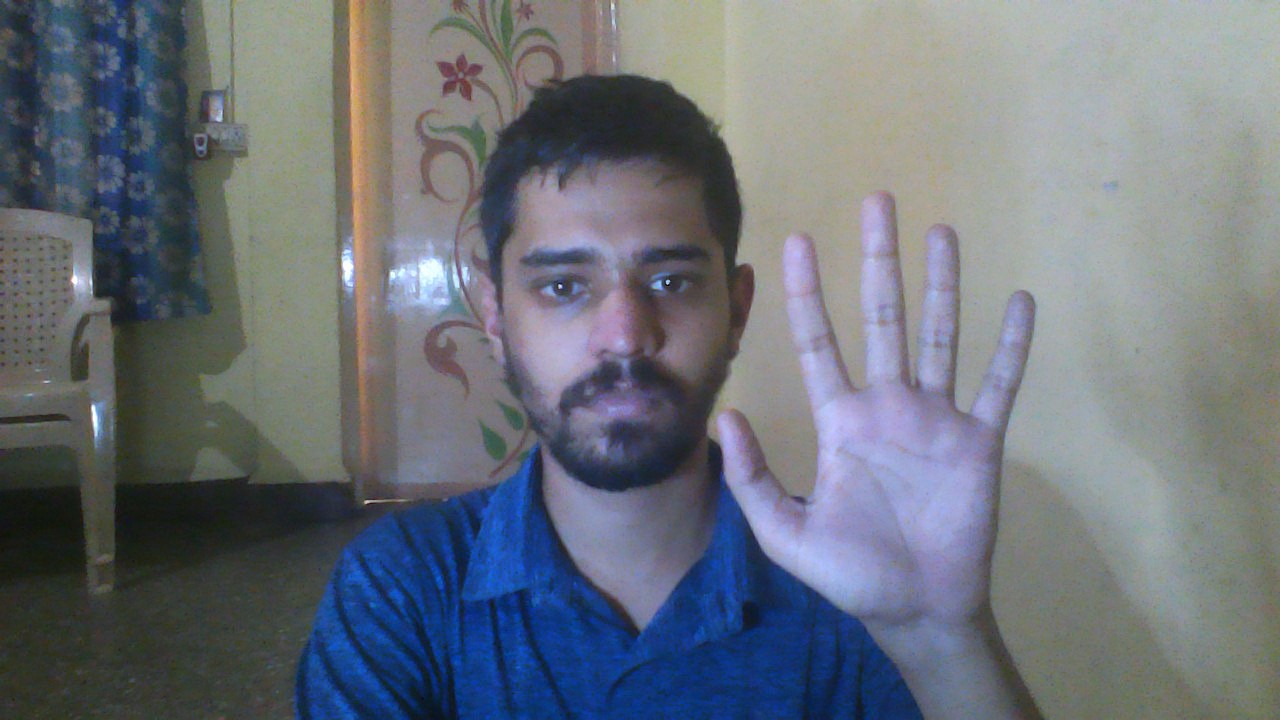hello: (708, 191, 1069, 646)
